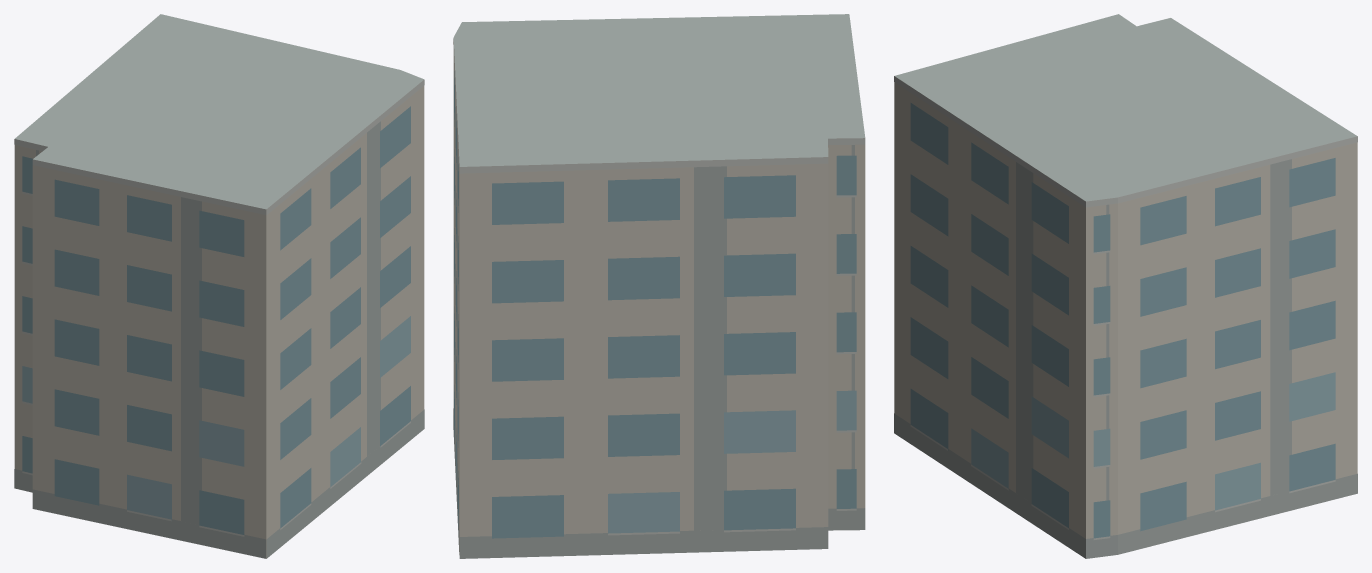
File: survey-upis-32886918.glb
3 renders of one model, left to right at view 1: azimuth 30°, elevation 25°; view 2: azimuth 150°, elevation 25°; view 3: azimuth 270°, elevation 25°, orthographic. The views are drawn at different scales.
Parts seen in each view (by area): view 1: survey-upis-32886918.tmp; view 2: survey-upis-32886918.tmp; view 3: survey-upis-32886918.tmp.
Boxes of the visible parts, left/top/right/bottom form: survey-upis-32886918.tmp: left=14, top=14, right=424, bottom=558; survey-upis-32886918.tmp: left=453, top=14, right=865, bottom=558; survey-upis-32886918.tmp: left=894, top=14, right=1357, bottom=558.
Bounding box in the file's own units: 16.32 × 14.49 × 17.04.
